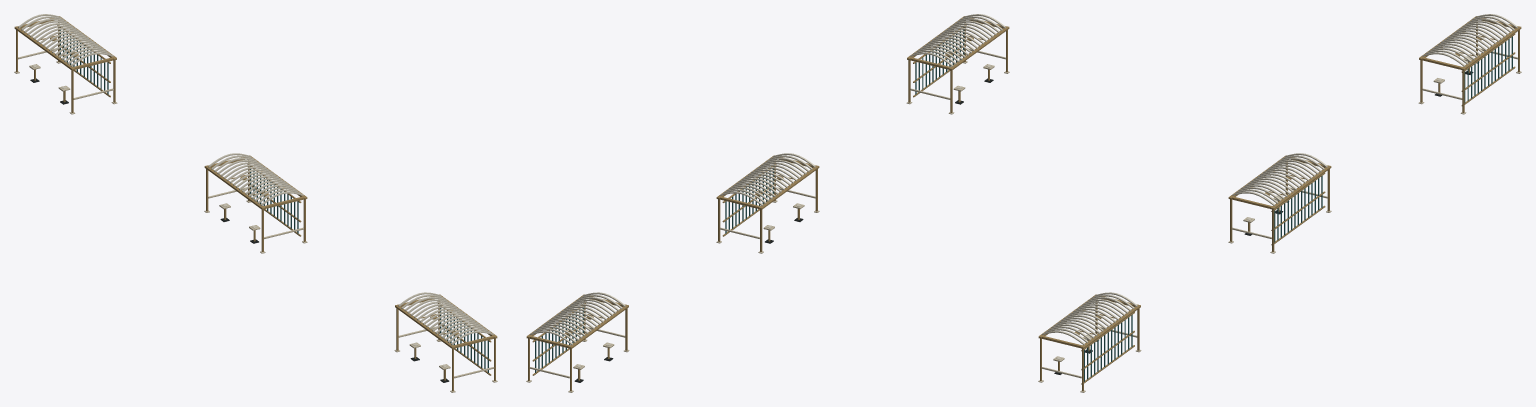
File: Group6ThermalRecovery_02_r004.glb
The picture shows the model from 3 angles, left to right: view 1: azimuth 30°, elevation 25°; view 2: azimuth 150°, elevation 25°; view 3: azimuth 330°, elevation 25°; orthographic projection.
Size of the model in its own units: 2.77 by 3.12 by 46.06.
6 materials, 5 textured.
